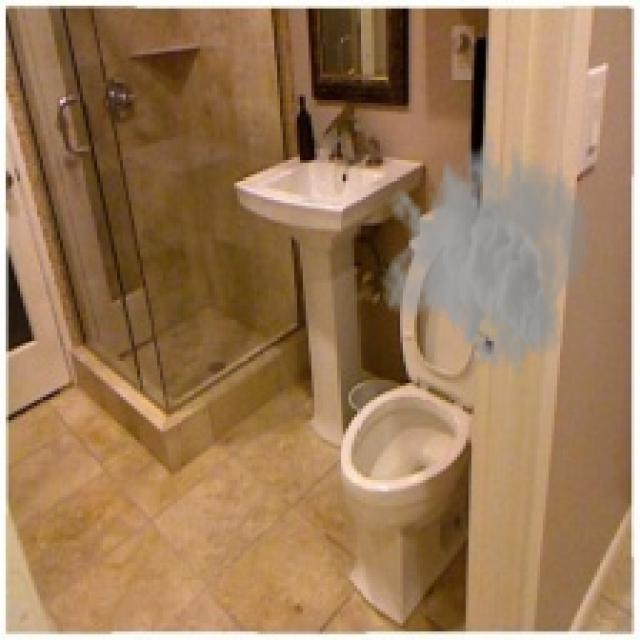Smoke: (379, 123, 592, 380)
